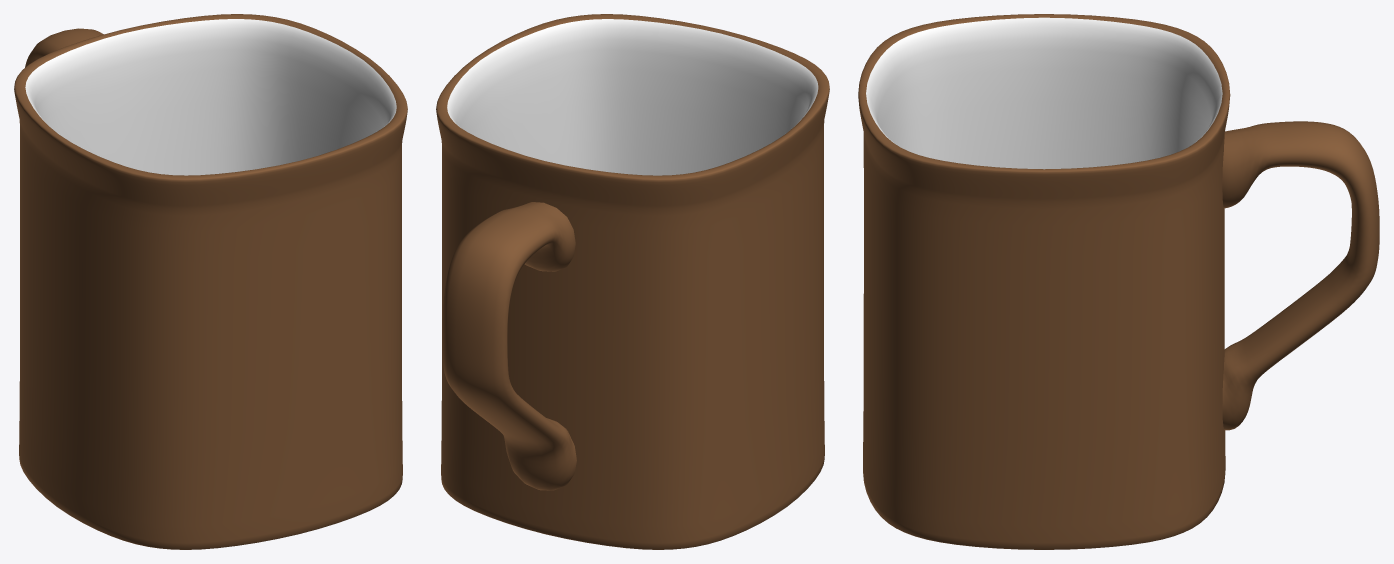
3 views of the same model, side by side, from view 1: azimuth 30°, elevation 25°; view 2: azimuth 150°, elevation 25°; view 3: azimuth 270°, elevation 25° (orthographic). The views are drawn at different scales.
Parts seen in each view (by area): view 1: mesh1_mesh1-geometry, mesh1_mesh1-geometry_2, mesh2_mesh2-geometry; view 2: mesh1_mesh1-geometry, mesh1_mesh1-geometry_2, mesh2_mesh2-geometry; view 3: mesh1_mesh1-geometry, mesh1_mesh1-geometry_2, mesh2_mesh2-geometry.
Boxes of the visible parts, bbox=[...] form: mesh1_mesh1-geometry: bbox=[14, 14, 407, 549]; mesh1_mesh1-geometry_2: bbox=[25, 19, 396, 175]; mesh2_mesh2-geometry: bbox=[25, 28, 103, 67]; mesh1_mesh1-geometry: bbox=[436, 14, 829, 549]; mesh1_mesh1-geometry_2: bbox=[447, 19, 818, 175]; mesh2_mesh2-geometry: bbox=[442, 202, 576, 490]; mesh1_mesh1-geometry: bbox=[858, 14, 1230, 549]; mesh1_mesh1-geometry_2: bbox=[866, 17, 1222, 169]; mesh2_mesh2-geometry: bbox=[1222, 121, 1379, 430].
Size of the model in its own units: 0.4869 by 0.55 by 0.6786.
